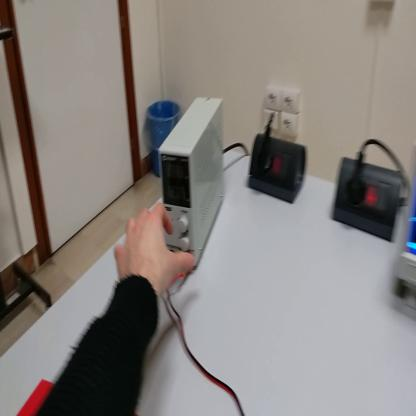hand: (115, 205, 195, 295)
oscilloscope: (397, 144, 416, 318)
power supply: (159, 94, 229, 268)
register: (17, 380, 55, 415)
socket: (333, 154, 405, 243), (247, 133, 310, 208)
